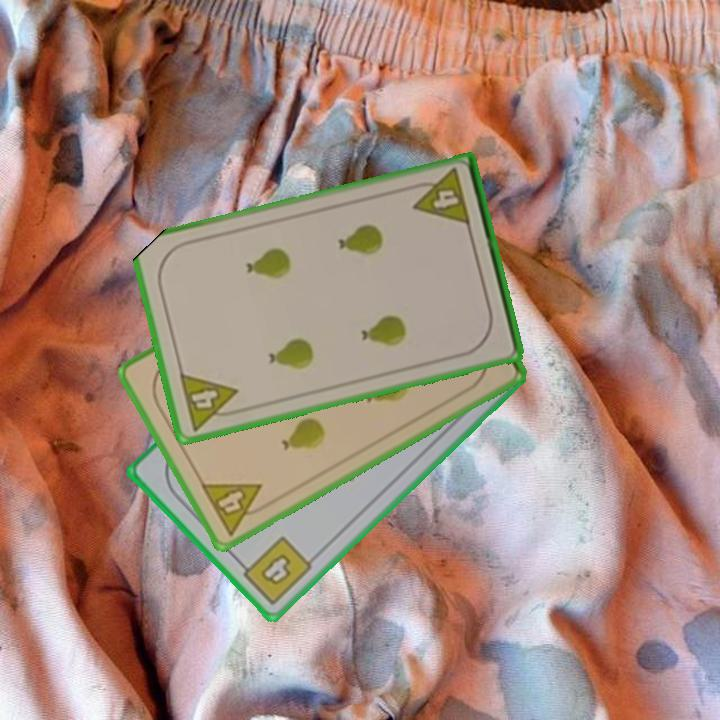4b: (233, 533, 315, 608)
4p: (197, 479, 275, 539), (176, 369, 245, 434), (406, 165, 473, 229)
